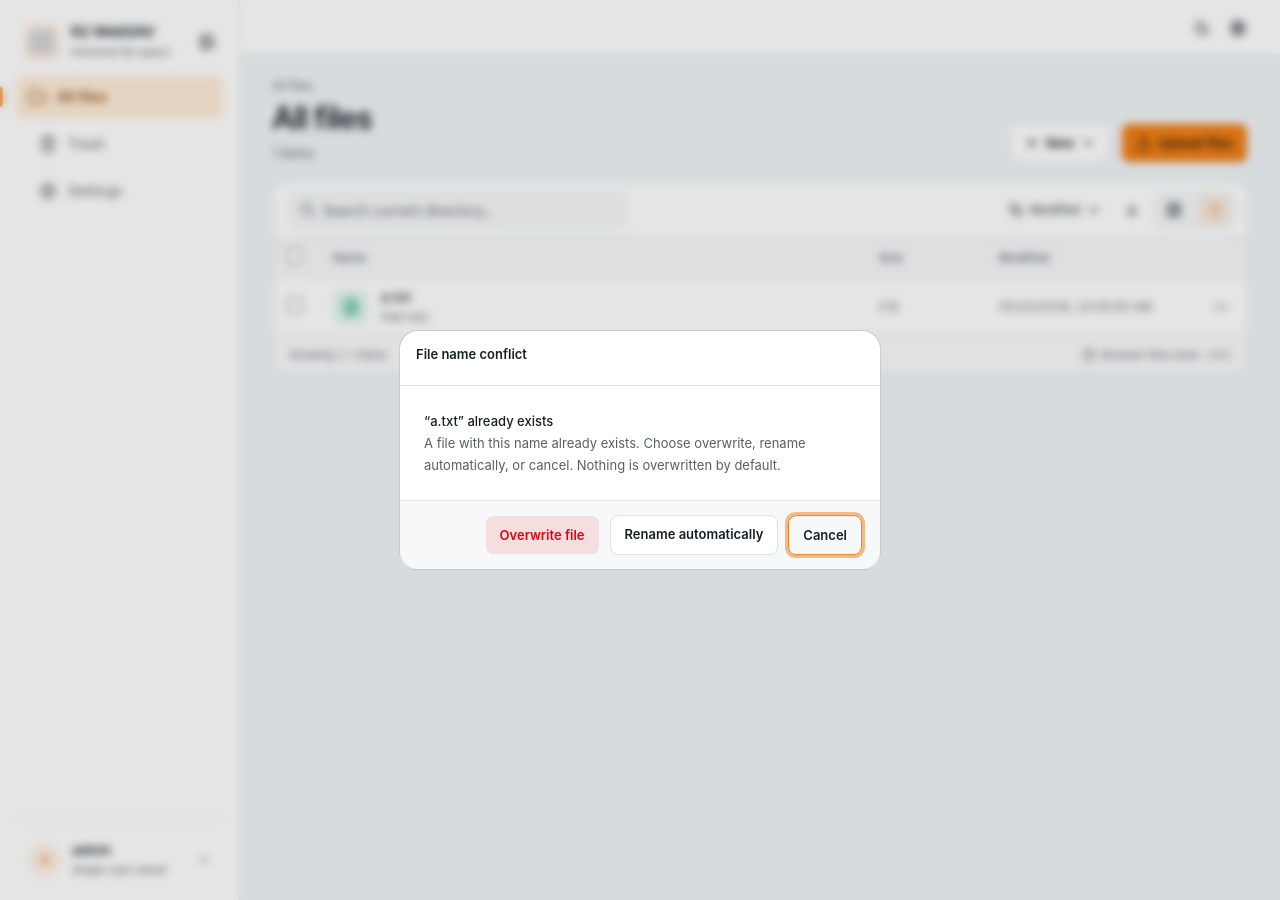
FilesPage › automatic rename uploads a non-conflicting filename after confirmation
The image size is (1280, 900).
Earlier steps of the test are not shown.
Later steps or results of the test are not shown.
Click the button "Rename automatically".
click(694, 535)  # box left=610, top=515, right=778, bottom=555
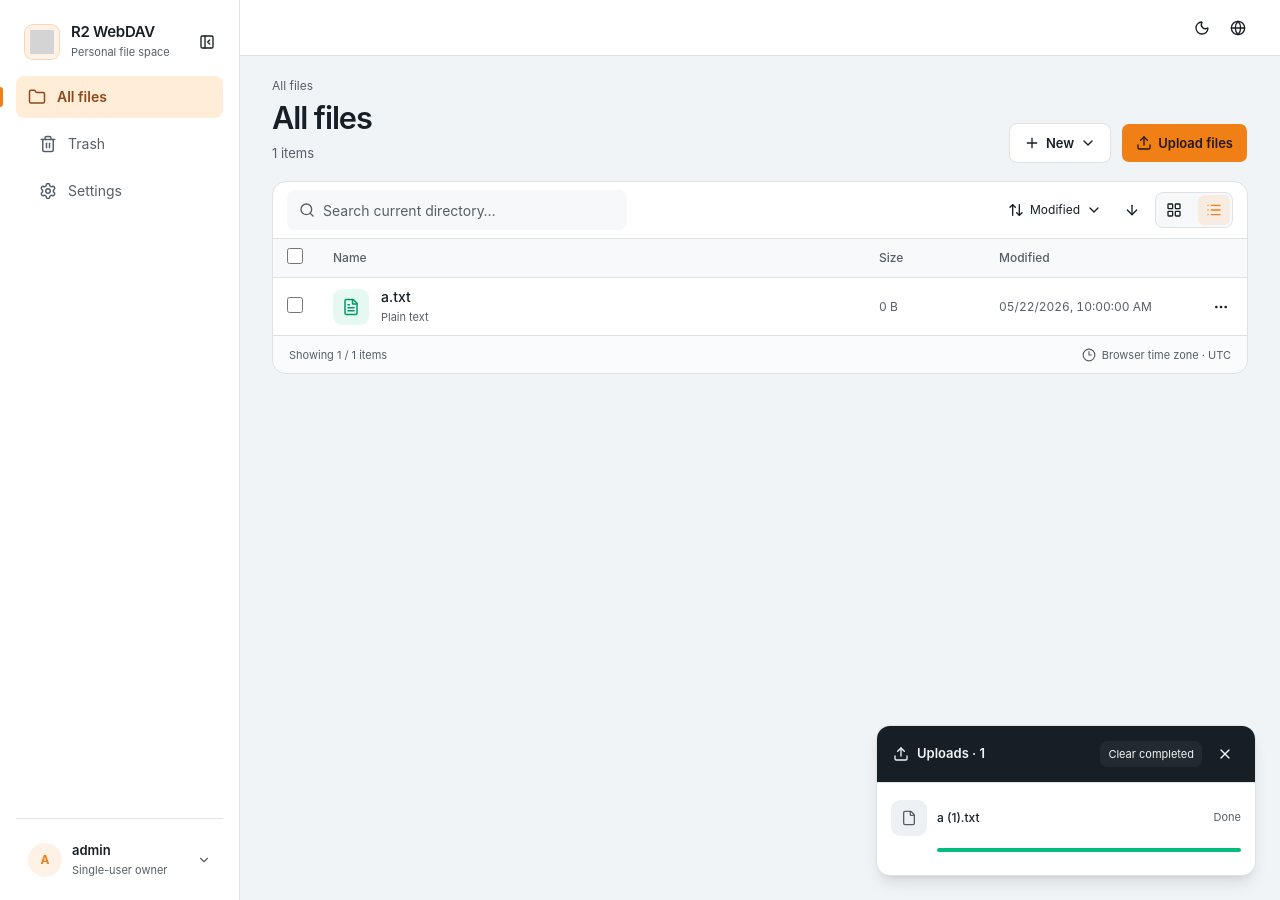
Now the text "a (1).txt" is shown, box left=937, top=810, right=980, bottom=825
